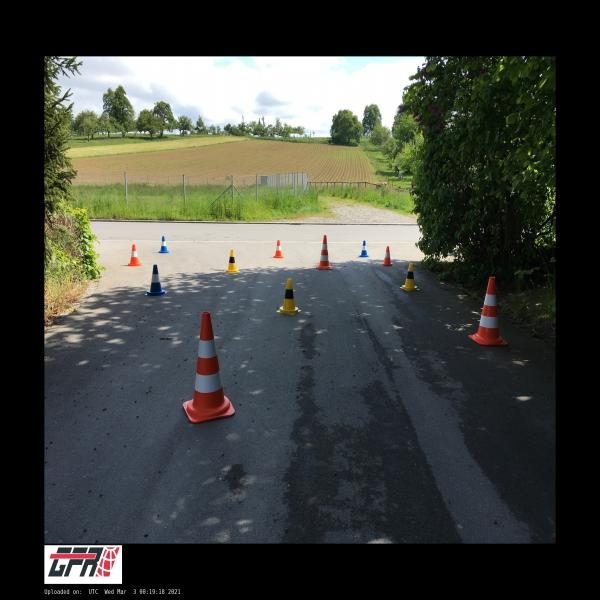blue_cone: (144, 265, 168, 296), (158, 236, 169, 254), (360, 241, 369, 257)
large_orange_cone: (183, 312, 235, 423), (469, 276, 507, 346), (317, 235, 332, 269)
orange_cone: (127, 245, 142, 266), (381, 247, 393, 266), (274, 241, 284, 258)
yellow_cone: (277, 278, 301, 315), (399, 264, 420, 290), (224, 250, 240, 274)
